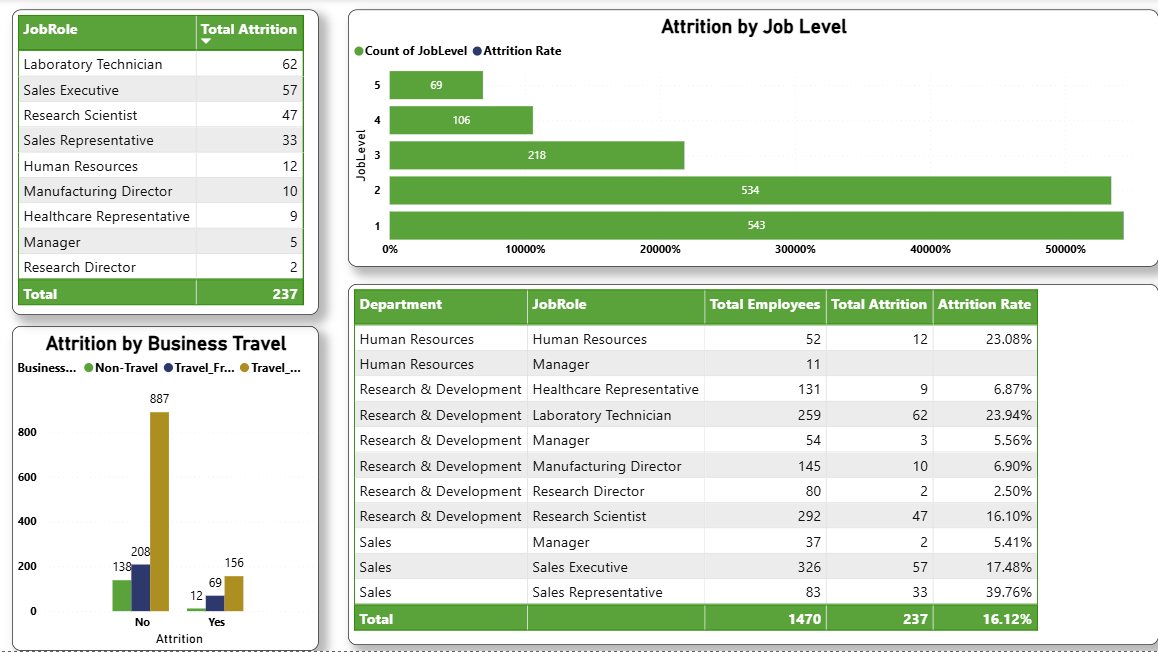

The page's visual inventory and layout, read from the dashboard file:
{"tool":"powerbi","page":{"name":"Job Role, Performance & Tenure","canvas":[1280,720],"ordinal":2},"visuals":[{"type":"tableEx","fields":{"Values":["emp_data.JobRole","Measures Table.Total Attrition"]},"box":[13.3,11.6,339,337.3],"z":0},{"type":"barChart","title":"Attrition by Job Level","fields":{"Y":["CountNonNull(emp_data.JobLevel)","Measures Table.Attrition Rate"],"Category":["emp_data.JobLevel"]},"box":[383.8,11.6,895.6,284.1],"z":1000},{"type":"tableEx","fields":{"Values":["emp_data.Department","emp_data.JobRole","Measures Table.Total Employees","Measures Table.Total Attrition","Measures Table.Attrition Rate"]},"box":[383.8,314,895.6,398.8],"z":2000},{"type":"clusteredColumnChart","title":"Attrition by Business Travel","fields":{"Category":["emp_data.Attrition"],"Series":["emp_data.BusinessTravel"],"Y":["CountNonNull(emp_data.BusinessTravel)"]},"box":[13.3,360.6,339,358.9],"z":3000}]}

Visuals, with their boxes in screenshot pixels (x1, y1, x2, y2), scaled from the page's 1280x720 canvas onto the 1158x652 screenshot:
tableEx - emp_data.JobRole x Measures Table.Total Attrition: <box>12,11,319,316</box>
"Attrition by Job Level" barChart: <box>347,11,1157,268</box>
tableEx - emp_data.Department x emp_data.JobRole: <box>347,284,1157,645</box>
"Attrition by Business Travel" clusteredColumnChart: <box>12,327,319,651</box>
